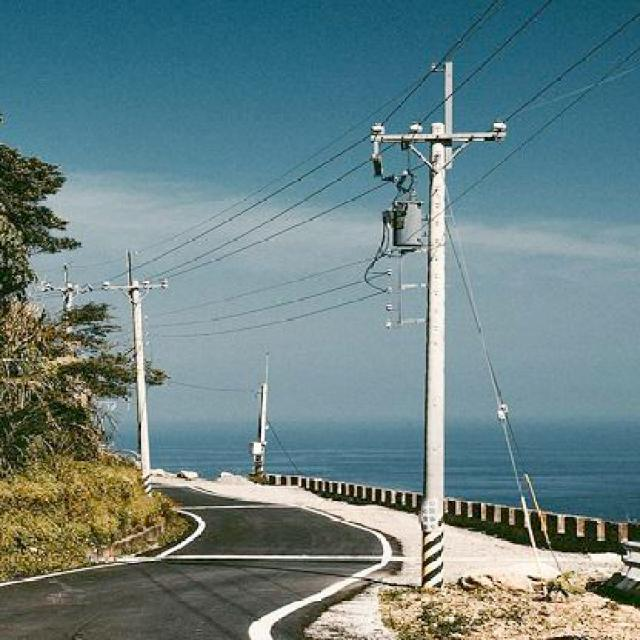crossarm: (371, 123, 508, 157)
pole: (420, 123, 452, 589)
transformer: (377, 197, 431, 258)
wire: (145, 44, 640, 321), (152, 10, 639, 284), (150, 0, 555, 284), (100, 1, 499, 285), (127, 1, 507, 256), (443, 213, 570, 584), (152, 270, 388, 329), (155, 289, 389, 338)
